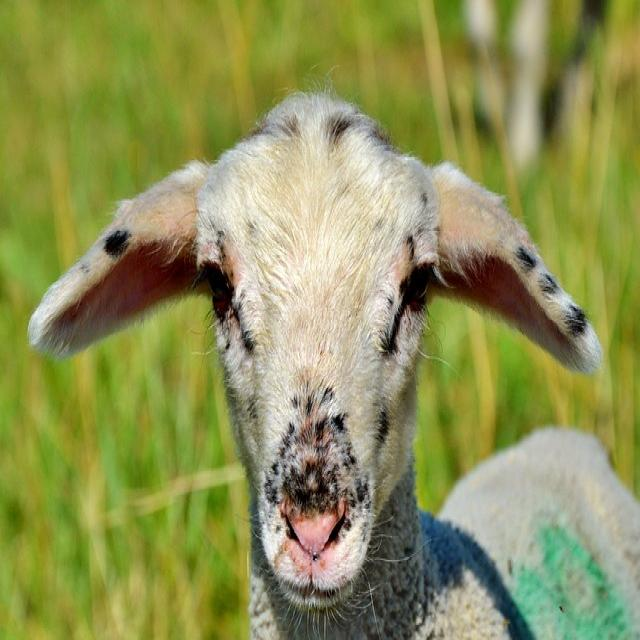goat: (27, 92, 604, 640)
